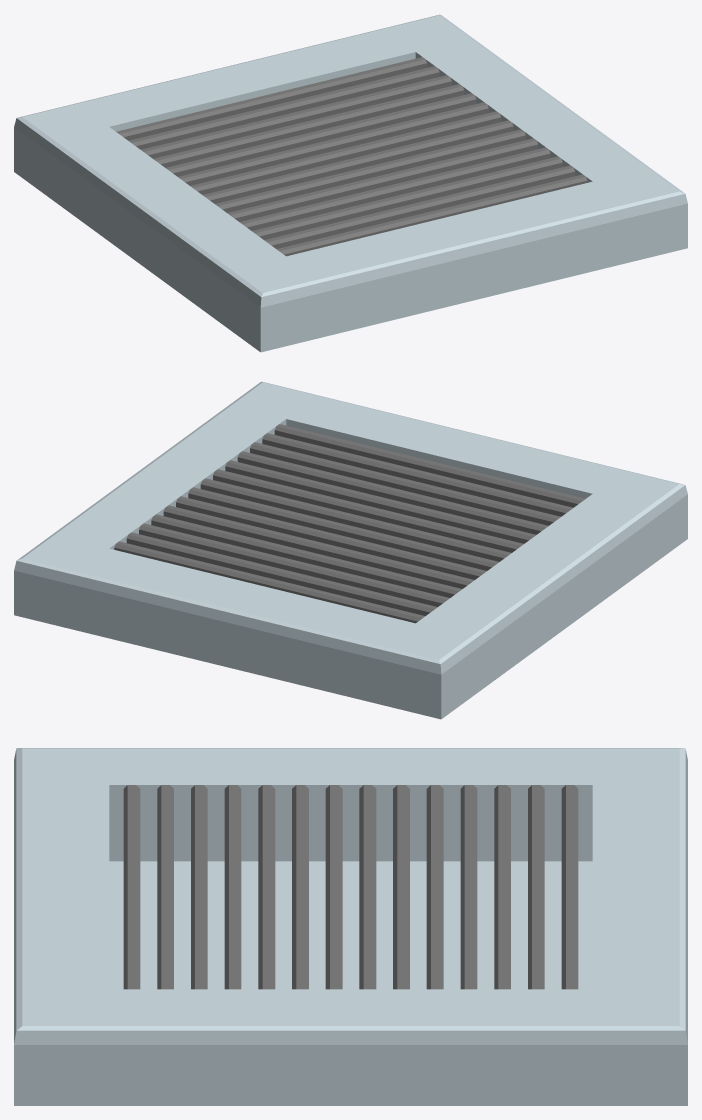
File: floor_tile_00_vent.glb
3 renders of one model, top to bottom at view 1: azimuth 30°, elevation 25°; view 2: azimuth 150°, elevation 25°; view 3: azimuth 270°, elevation 25°, orthographic. The views are drawn at different scales.
Visible parts, largest first — view 1: floor_tile_00_vent; view 2: floor_tile_00_vent; view 3: floor_tile_00_vent.
Part boxes in pixels (bbox=[...]): floor_tile_00_vent: bbox=[14, 14, 687, 352]; floor_tile_00_vent: bbox=[14, 381, 687, 719]; floor_tile_00_vent: bbox=[14, 748, 687, 1105].
Size of the model in its own units: 4 by 0.5 by 4.
